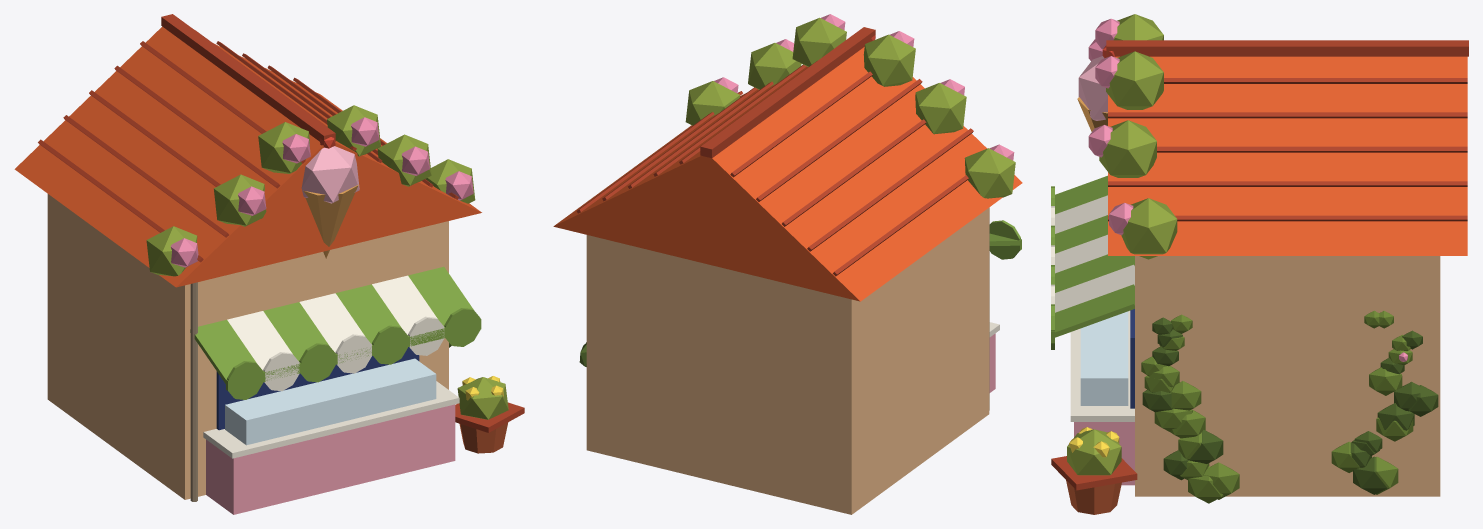
The model's file is gelateria.glb.
3 renders of one model, left to right at view 1: azimuth 30°, elevation 25°; view 2: azimuth 150°, elevation 25°; view 3: azimuth 270°, elevation 25°, orthographic. The views are drawn at different scales.
Parts seen in each view (by area): view 1: gelateria; view 2: gelateria; view 3: gelateria.
Boxes of the visible parts, left/top/right/bottom form: gelateria: left=14, top=14, right=524, bottom=514; gelateria: left=553, top=14, right=1022, bottom=514; gelateria: left=1051, top=14, right=1468, bottom=514.
Bounding box in the file's own units: 6.48 × 6.46 × 6.16.
